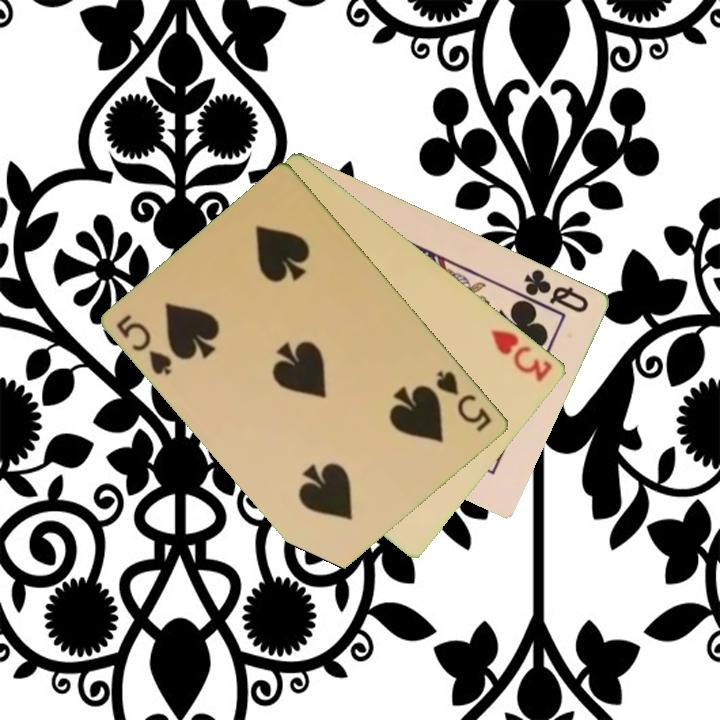3h: (487, 326, 556, 385)
5s: (113, 310, 176, 378), (433, 367, 495, 435)
Qc: (520, 265, 592, 316)
